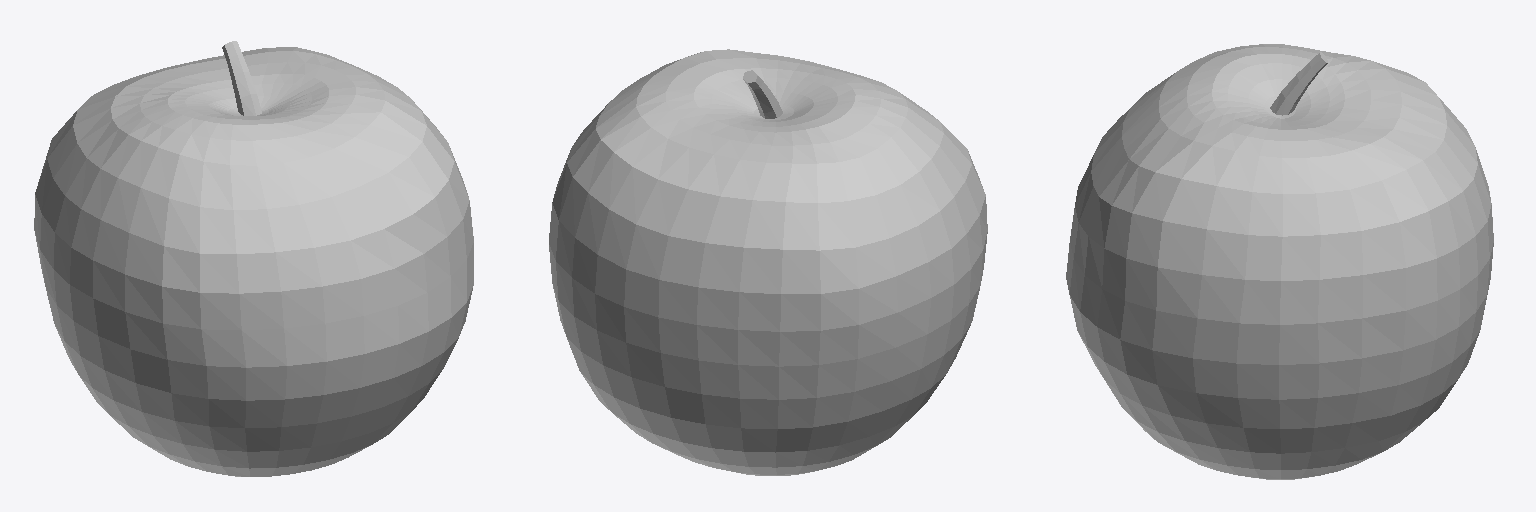
File: apple.obj
3 renders of one model, left to right at view 1: azimuth 30°, elevation 25°; view 2: azimuth 150°, elevation 25°; view 3: azimuth 270°, elevation 25°, orthographic.
Visible parts, largest first — view 1: App1_Sphere; view 2: App1_Sphere; view 3: App1_Sphere.
Part boxes in pixels (left/top/right/bottom): App1_Sphere: left=34, top=41, right=473, bottom=476; App1_Sphere: left=549, top=49, right=987, bottom=475; App1_Sphere: left=1066, top=44, right=1493, bottom=479.
Bounding box in the file's own units: 0.1021 × 0.1053 × 0.1015.